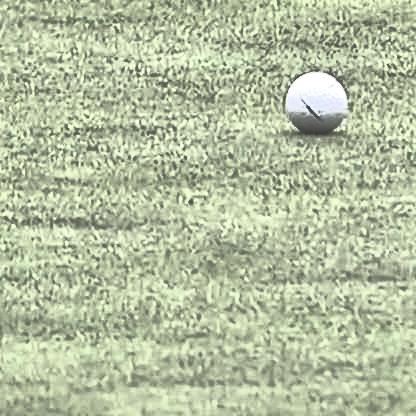golfball: (282, 68, 345, 130)
